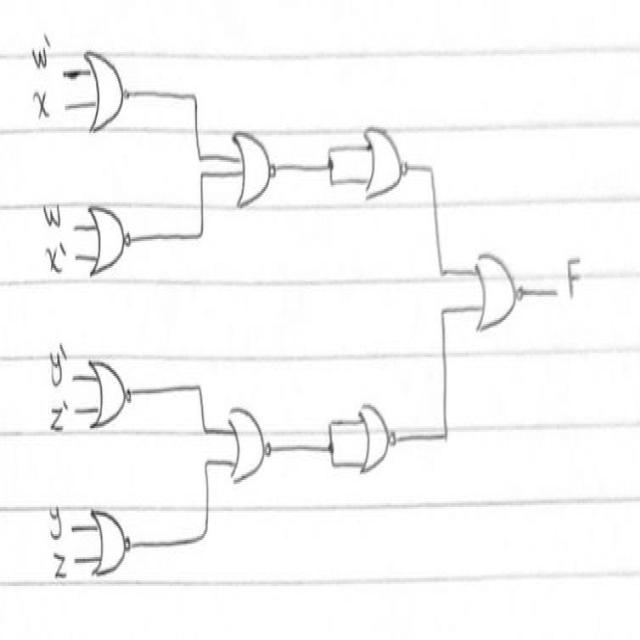NOR: (78, 43, 138, 142), (227, 112, 282, 220), (470, 234, 526, 340), (356, 117, 415, 216), (216, 397, 276, 494), (352, 390, 403, 490), (83, 499, 138, 588), (88, 352, 142, 438), (85, 191, 132, 286)
